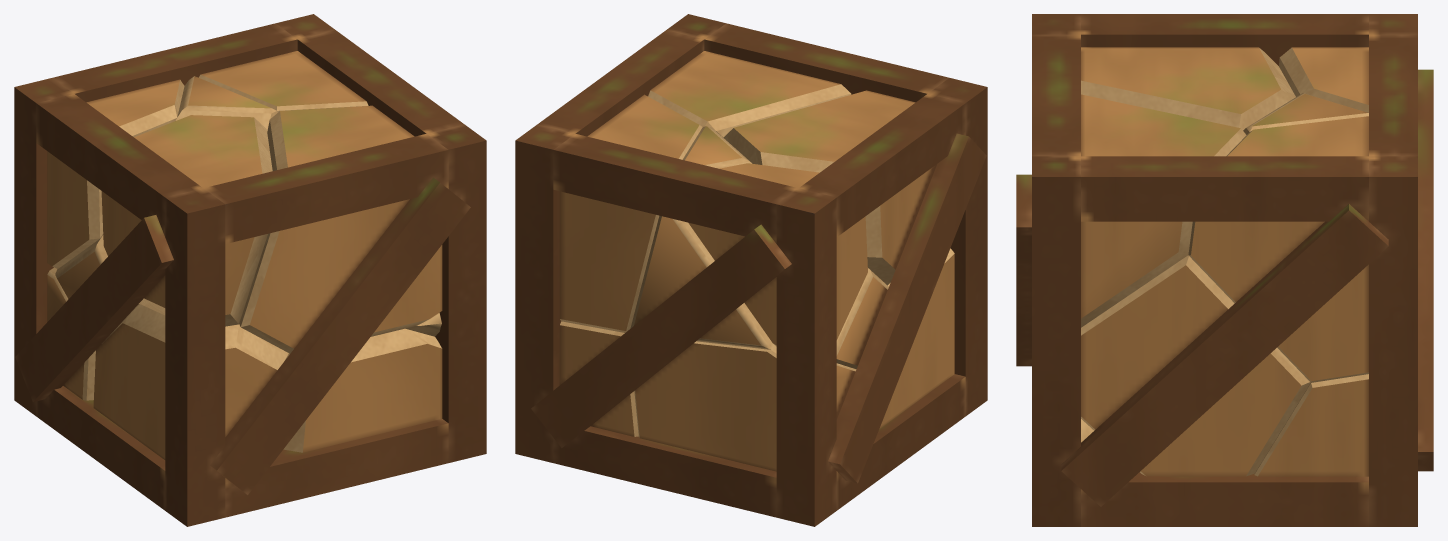
The model's file is Kit_Props_CrateSmall_Fractured.fbx.
The picture shows the model from 3 angles, left to right: view 1: azimuth 30°, elevation 25°; view 2: azimuth 150°, elevation 25°; view 3: azimuth 270°, elevation 25°; orthographic projection. The views are drawn at different scales.
Visible parts, largest first — view 1: Kit_Props_CrateSmall_frag_04, Kit_Props_CrateSmall_frag_02, Kit_Props_CrateSmall_frag_10, Kit_Props_CrateSmall_frag_07, Kit_Props_CrateSmall_frag_05, Kit_Props_CrateSmall_frag_03, Kit_Props_CrateSmall_frag_01, Kit_Props_CrateSmall_frag_06; view 2: Kit_Props_CrateSmall_frag_10, Kit_Props_CrateSmall_frag_03, Kit_Props_CrateSmall_frag_02, Kit_Props_CrateSmall_frag_01, Kit_Props_CrateSmall_frag_06, Kit_Props_CrateSmall_frag_05, Kit_Props_CrateSmall_frag_04, Kit_Props_CrateSmall_frag_09; view 3: Kit_Props_CrateSmall_frag_08, Kit_Props_CrateSmall_frag_03, Kit_Props_CrateSmall_frag_04, Kit_Props_CrateSmall_frag_05, Kit_Props_CrateSmall_frag_10, Kit_Props_CrateSmall_frag_01, Kit_Props_CrateSmall_frag_09, Kit_Props_CrateSmall_frag_02.
Part boxes in pixels (x1,y1,x2,y2): Kit_Props_CrateSmall_frag_04: (203, 105, 486, 494); Kit_Props_CrateSmall_frag_02: (15, 188, 289, 526); Kit_Props_CrateSmall_frag_10: (14, 23, 297, 415); Kit_Props_CrateSmall_frag_07: (225, 328, 448, 517); Kit_Props_CrateSmall_frag_05: (36, 94, 272, 326); Kit_Props_CrateSmall_frag_03: (199, 14, 464, 136); Kit_Props_CrateSmall_frag_01: (55, 76, 277, 311); Kit_Props_CrateSmall_frag_06: (47, 267, 95, 400); Kit_Props_CrateSmall_frag_10: (553, 134, 867, 526); Kit_Props_CrateSmall_frag_03: (515, 30, 704, 462); Kit_Props_CrateSmall_frag_02: (828, 78, 987, 510); Kit_Props_CrateSmall_frag_01: (531, 126, 888, 447); Kit_Props_CrateSmall_frag_06: (553, 341, 856, 517); Kit_Props_CrateSmall_frag_05: (723, 90, 965, 285); Kit_Props_CrateSmall_frag_04: (648, 14, 948, 143); Kit_Props_CrateSmall_frag_09: (559, 321, 638, 436); Kit_Props_CrateSmall_frag_08: (1061, 204, 1388, 526); Kit_Props_CrateSmall_frag_03: (1081, 116, 1417, 526); Kit_Props_CrateSmall_frag_04: (1016, 34, 1246, 526); Kit_Props_CrateSmall_frag_05: (1081, 14, 1368, 130); Kit_Props_CrateSmall_frag_10: (1279, 14, 1417, 156); Kit_Props_CrateSmall_frag_01: (1243, 69, 1433, 471); Kit_Props_CrateSmall_frag_09: (1254, 374, 1368, 476); Kit_Props_CrateSmall_frag_02: (1032, 14, 1080, 34).
Size of what is drawn, in the model's own units: 0.595 by 0.55 by 0.595.
Materials: 2 (2 with a texture image).
